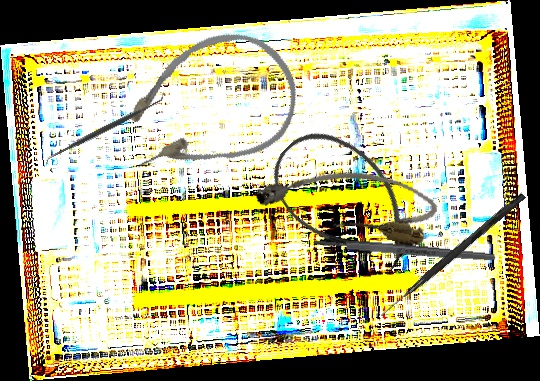Cannula: (101, 13, 315, 198), (254, 111, 438, 292), (251, 153, 442, 248)
Hook Surgical: (378, 190, 527, 321)
Scalpel Handle: (312, 236, 497, 264)
Spatula Surgical: (41, 90, 170, 167)
